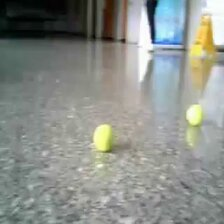tennis: (93, 124, 116, 151), (186, 104, 204, 125)
